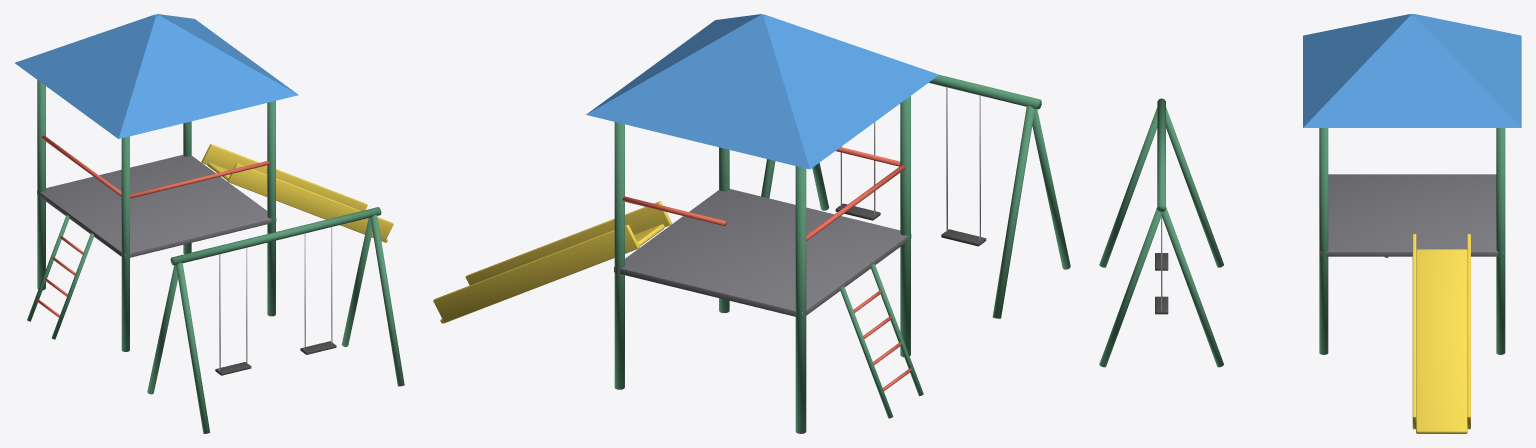
File: park_playground.glb
The picture shows the model from 3 angles, left to right: view 1: azimuth 30°, elevation 25°; view 2: azimuth 150°, elevation 25°; view 3: azimuth 270°, elevation 25°; orthographic projection. The views are drawn at different scales.
Parts seen in each view (by area): view 1: park_playground; view 2: park_playground; view 3: park_playground.
Boxes of the visible parts, x1=… form: park_playground: x1=15, y1=14, x2=404, y2=433; park_playground: x1=433, y1=14, x2=1070, y2=433; park_playground: x1=1099, y1=14, x2=1521, y2=433.
Bounding box in the file's own units: 5.84 × 4.52 × 5.73.
